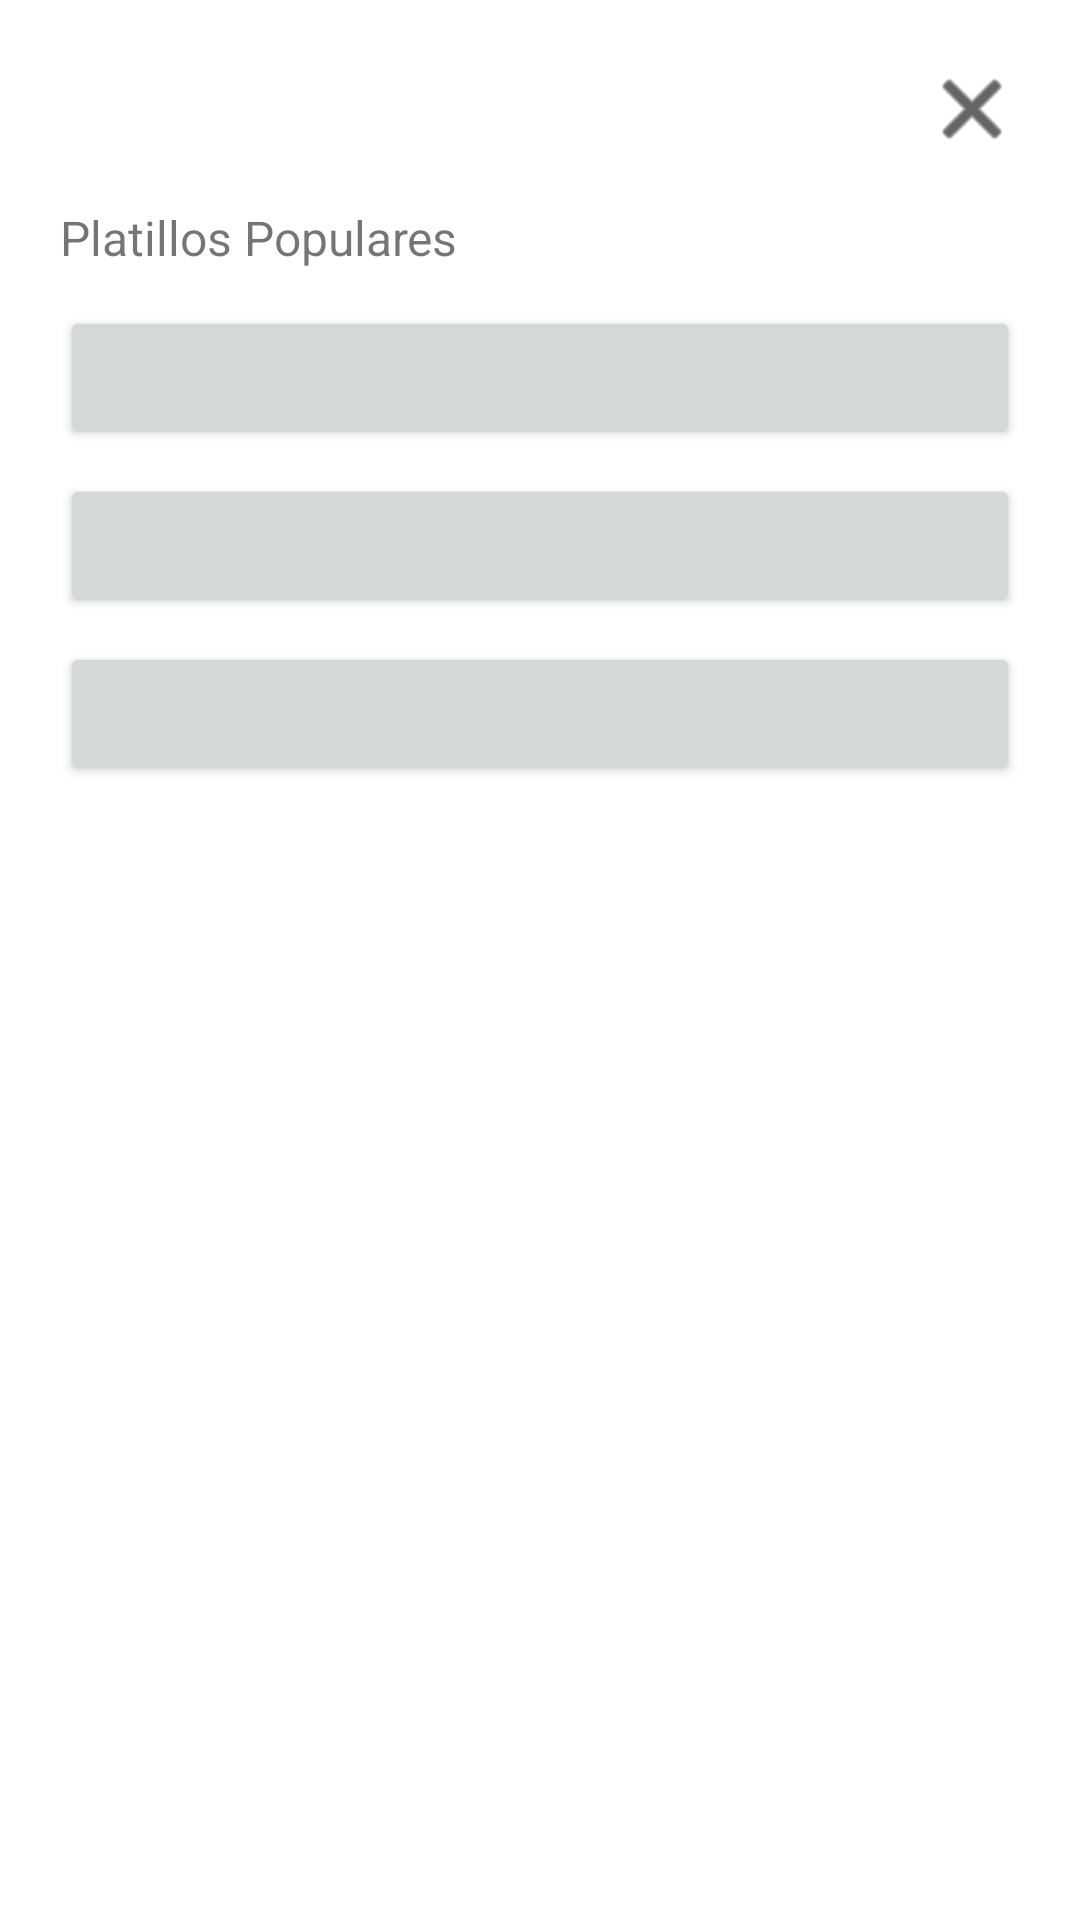

Icon click points for this 1080w x 1920h phone screenshot, format point (x, y):
close clear cancel: point (972, 109)
